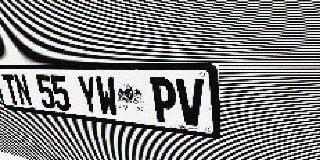5: (50, 75, 72, 111), (35, 75, 57, 110)
N: (13, 74, 33, 107)
P: (149, 77, 178, 124)
T: (2, 74, 21, 105)
V: (176, 78, 206, 127)
W: (94, 76, 120, 117)
Y: (76, 76, 100, 115)
